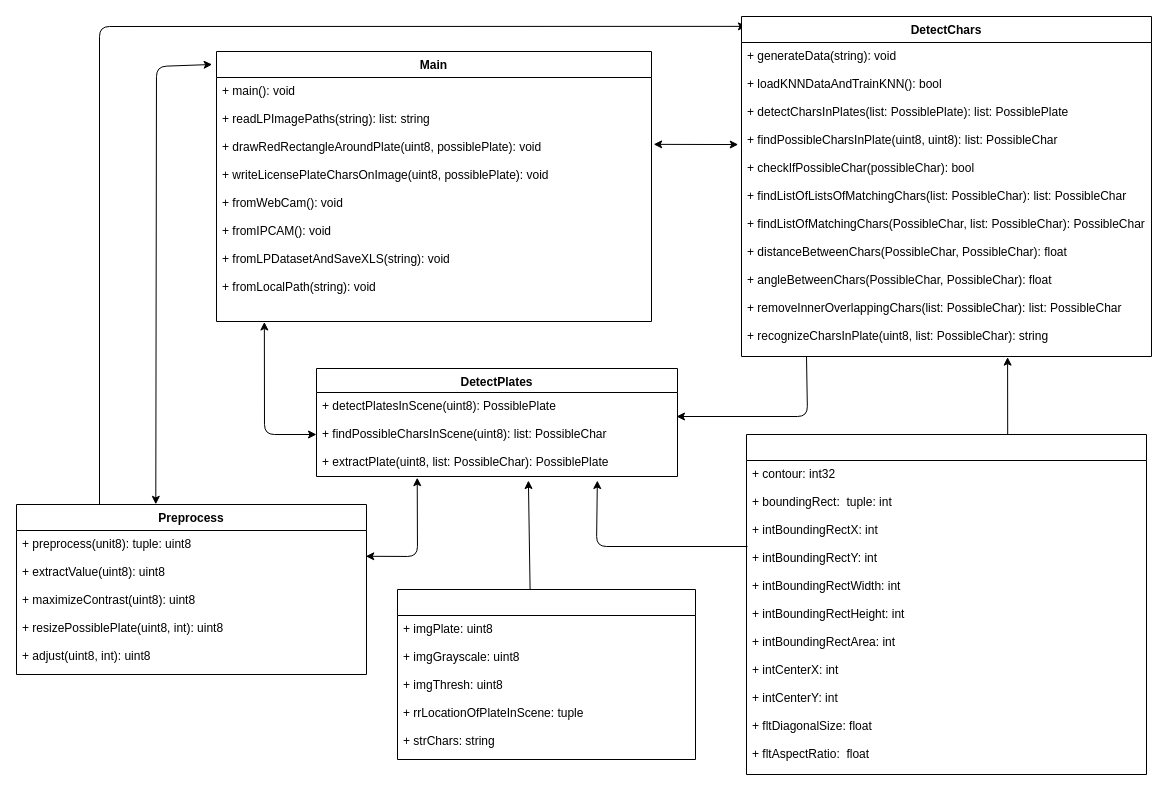
This 1168x791 diagram has some shape labels left out. Each missing label, with the box of its shape:
PossibleChar: (746, 434, 1146, 774)
PossiblePlate: (396, 588, 696, 760)
